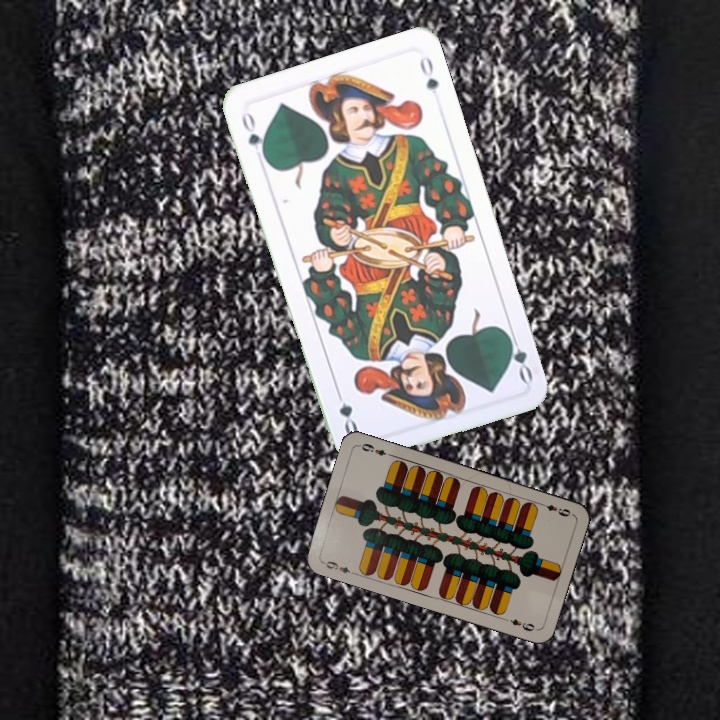E9: (319, 557, 358, 577), (535, 499, 573, 519)
GO: (501, 326, 536, 385), (237, 108, 269, 163)
